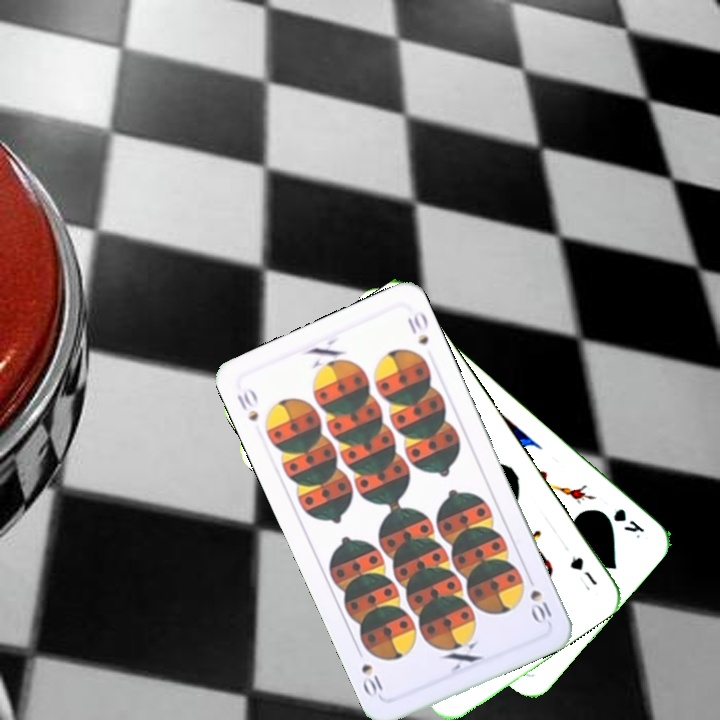GK: (609, 504, 647, 541)
GU: (565, 552, 600, 588)
S10: (523, 570, 555, 627), (232, 384, 261, 424)
